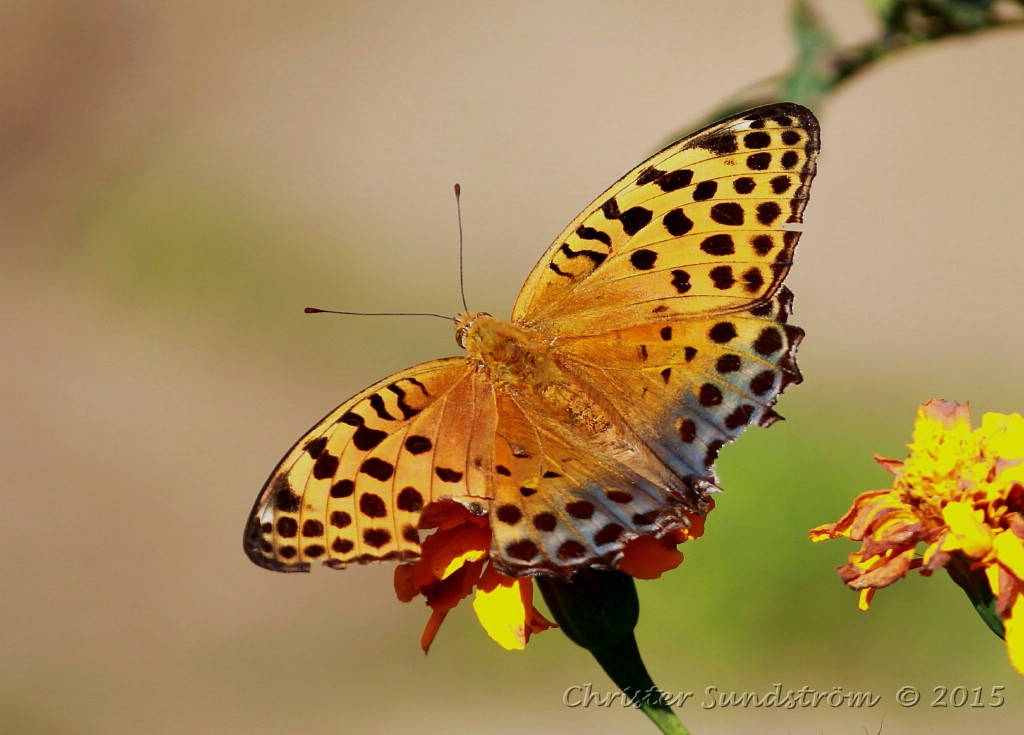Argyreus hyperbius: (234, 90, 834, 583)
butterfly: (236, 92, 836, 585)
